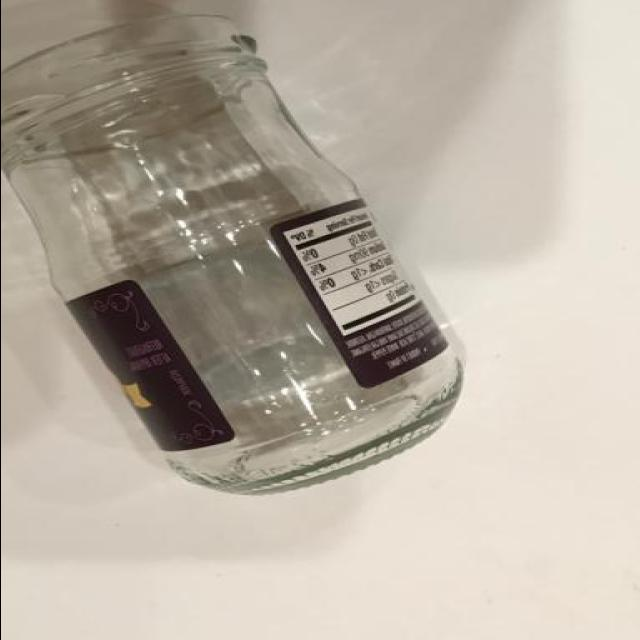glass: (1, 0, 482, 503)
